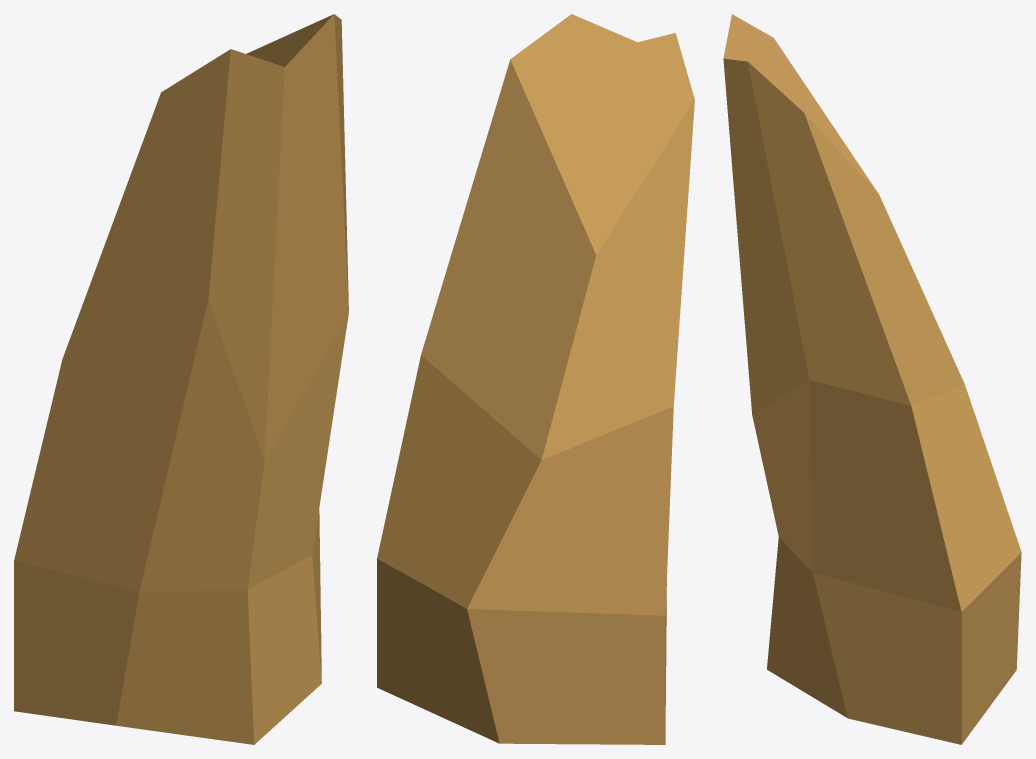
The model's file is stone_3.fbx.
3 views of the same model, side by side, from view 1: azimuth 30°, elevation 25°; view 2: azimuth 150°, elevation 25°; view 3: azimuth 270°, elevation 25° (orthographic). The views are drawn at different scales.
Parts seen in each view (by area): view 1: Plane.045; view 2: Plane.045; view 3: Plane.045.
Boxes of the visible parts, x1,y1,x2,y2 form: Plane.045: (14,14,348,744); Plane.045: (377,14,694,744); Plane.045: (723,14,1021,744).
Bounding box in the file's own units: 1789 × 3852 × 1632.
